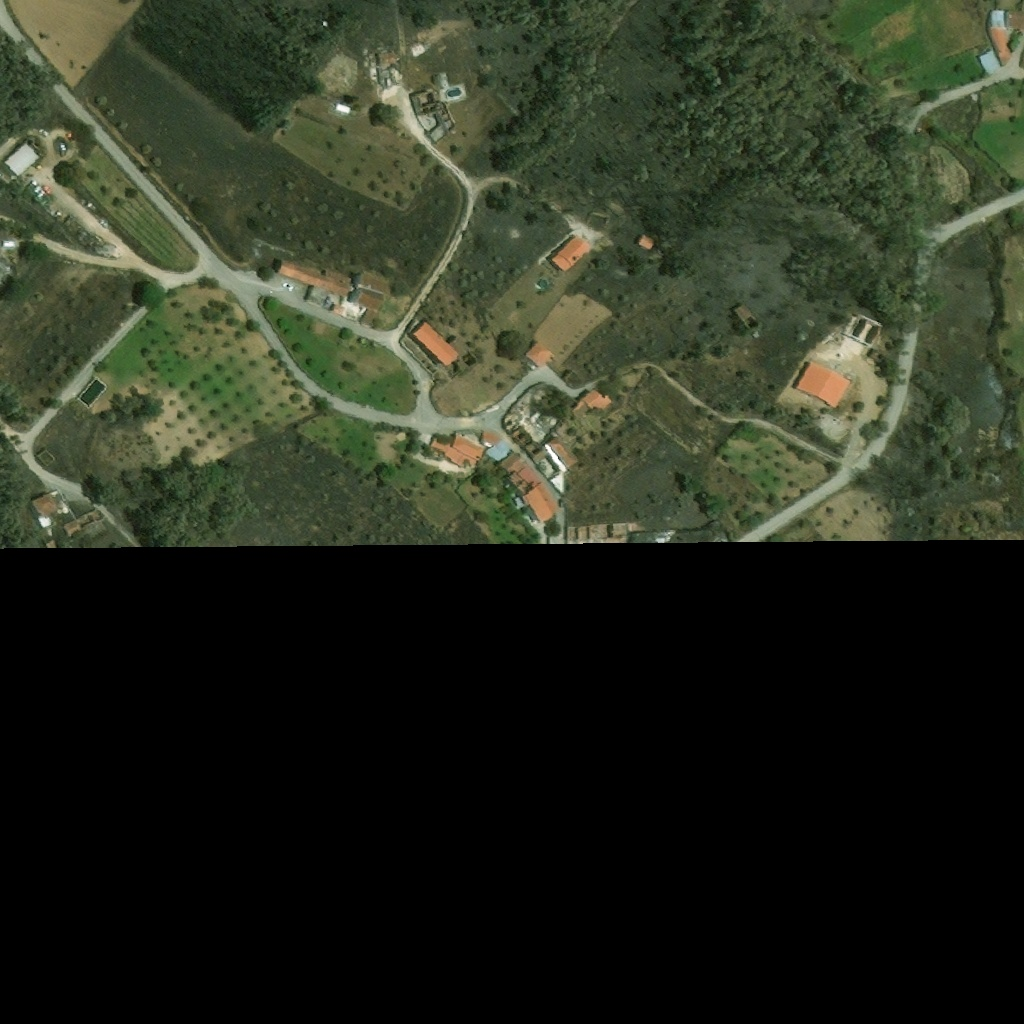0 no-damage: (498, 450, 560, 524), (412, 321, 480, 370), (277, 261, 349, 302), (429, 435, 483, 467), (548, 234, 591, 271), (3, 137, 42, 176), (987, 10, 1013, 67), (542, 433, 577, 470), (581, 385, 615, 414), (566, 523, 633, 535), (525, 341, 553, 367), (31, 493, 58, 517), (356, 288, 384, 311), (977, 49, 1000, 76), (360, 273, 385, 293), (571, 398, 591, 420), (480, 431, 500, 450), (62, 518, 82, 536), (548, 469, 562, 494), (1006, 9, 1023, 28), (638, 233, 656, 250), (360, 309, 378, 324), (377, 52, 395, 64), (334, 103, 350, 114), (36, 515, 47, 528), (333, 304, 342, 313), (14, 245, 25, 250)
2 major-damage: (733, 302, 753, 322)
3 destroyed: (413, 90, 458, 134), (512, 425, 545, 462), (77, 509, 96, 524), (390, 70, 398, 81), (370, 70, 377, 81)
4 un-classified: (78, 215, 95, 229), (513, 496, 524, 507)
